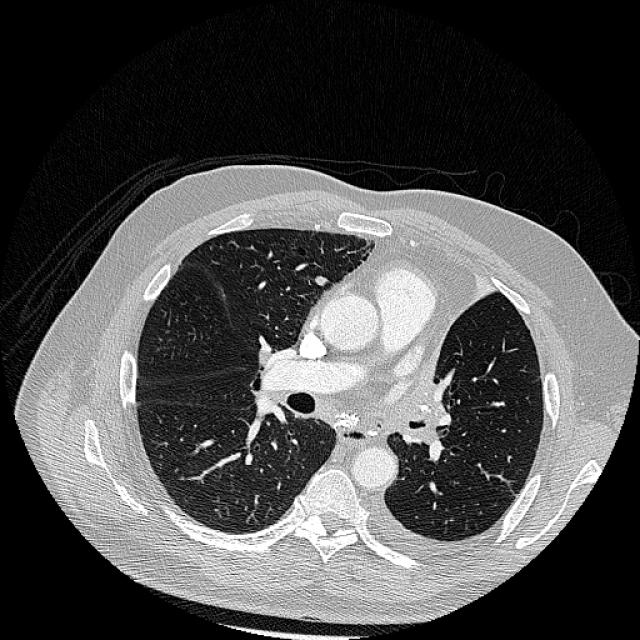nodule: (308, 268, 330, 290)
